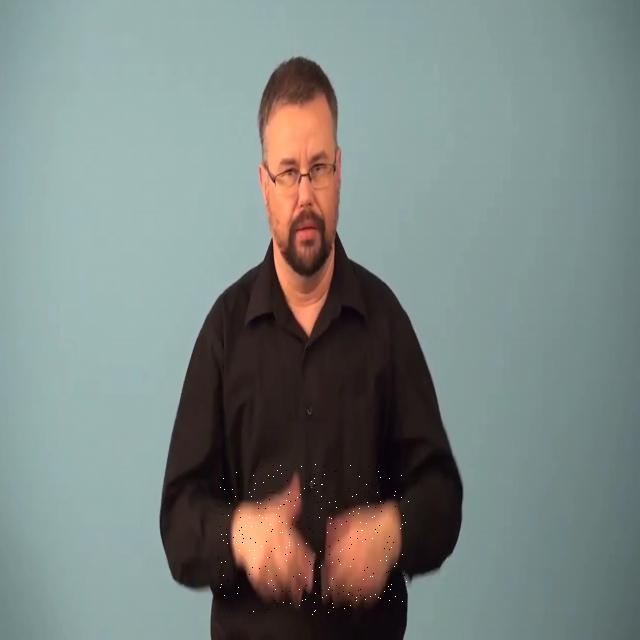juicy: (218, 464, 410, 617)
